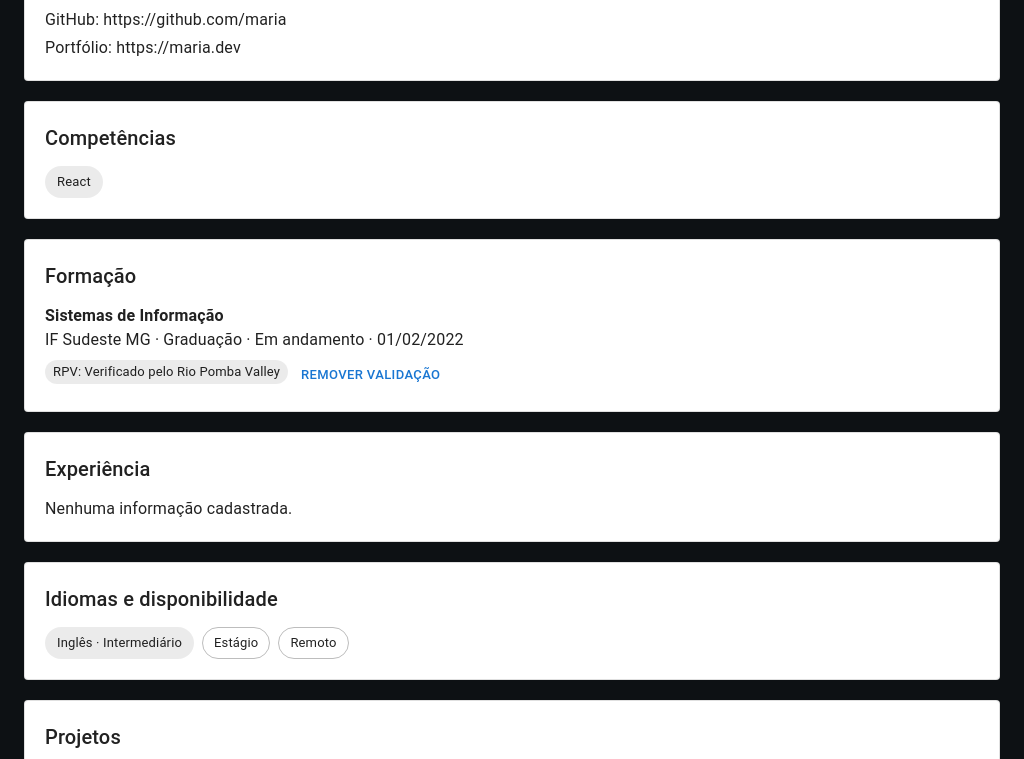
Test: AdminStudentDetailView RPV validation removal › dismisses the notice with Escape
(page scrolled)
Click the button "Remover validação" at (371, 375), box 296,360 -> 445,391
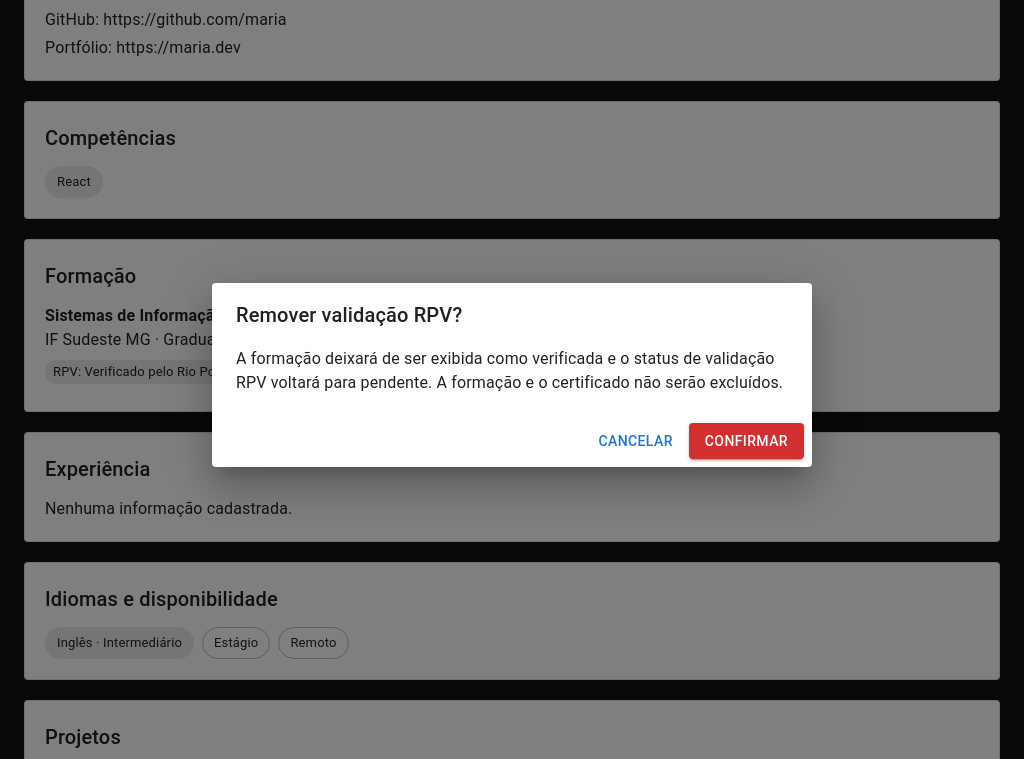
Click the button "Confirmar" at (746, 441), box 689,423 -> 804,459
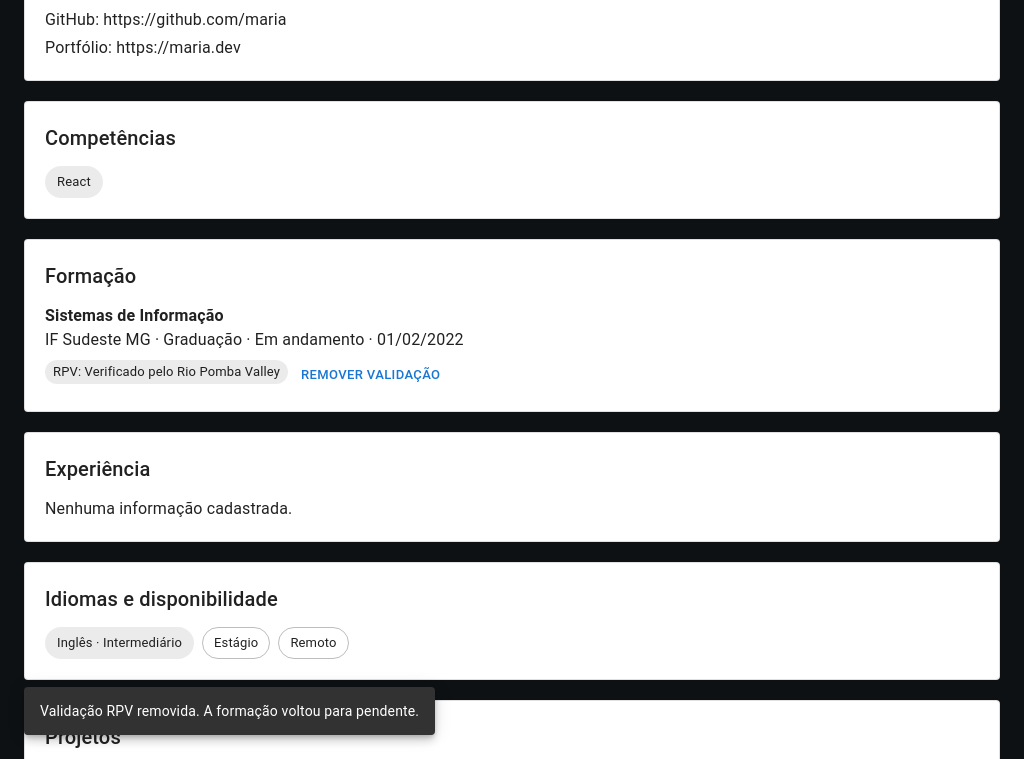
Now the text "Validação RPV removida. A formação voltou para pendente." is shown, box 40,703 -> 419,719
Press Escape
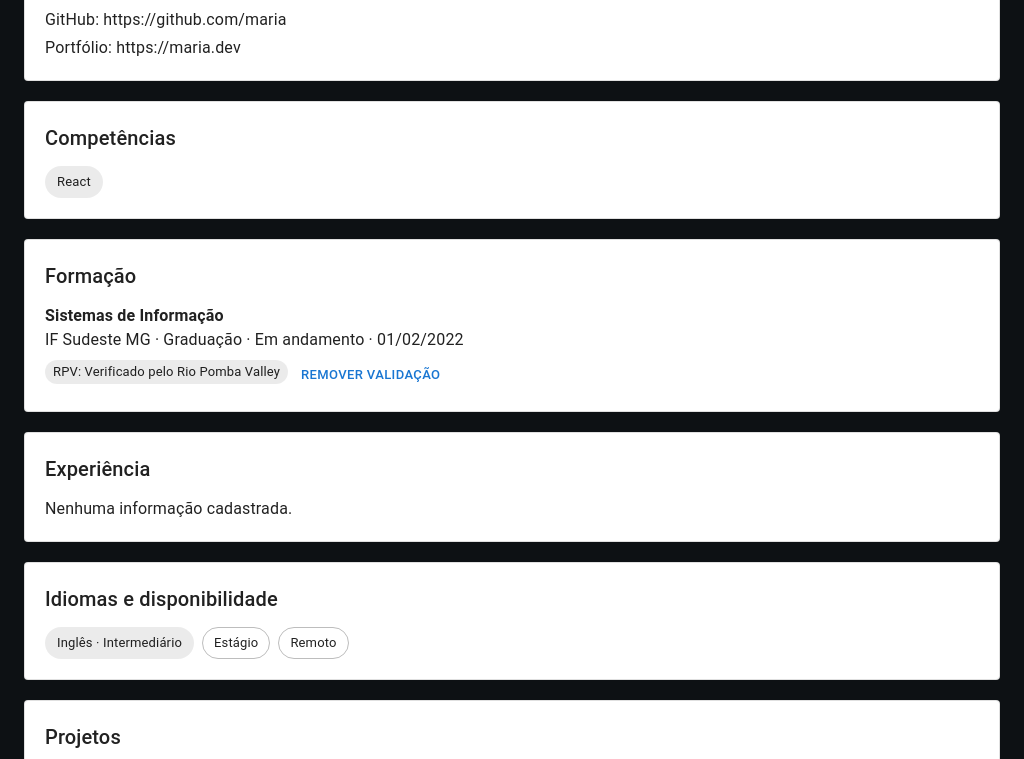
Now the text "Validação RPV removida. A formação voltou para pendente." is gone
